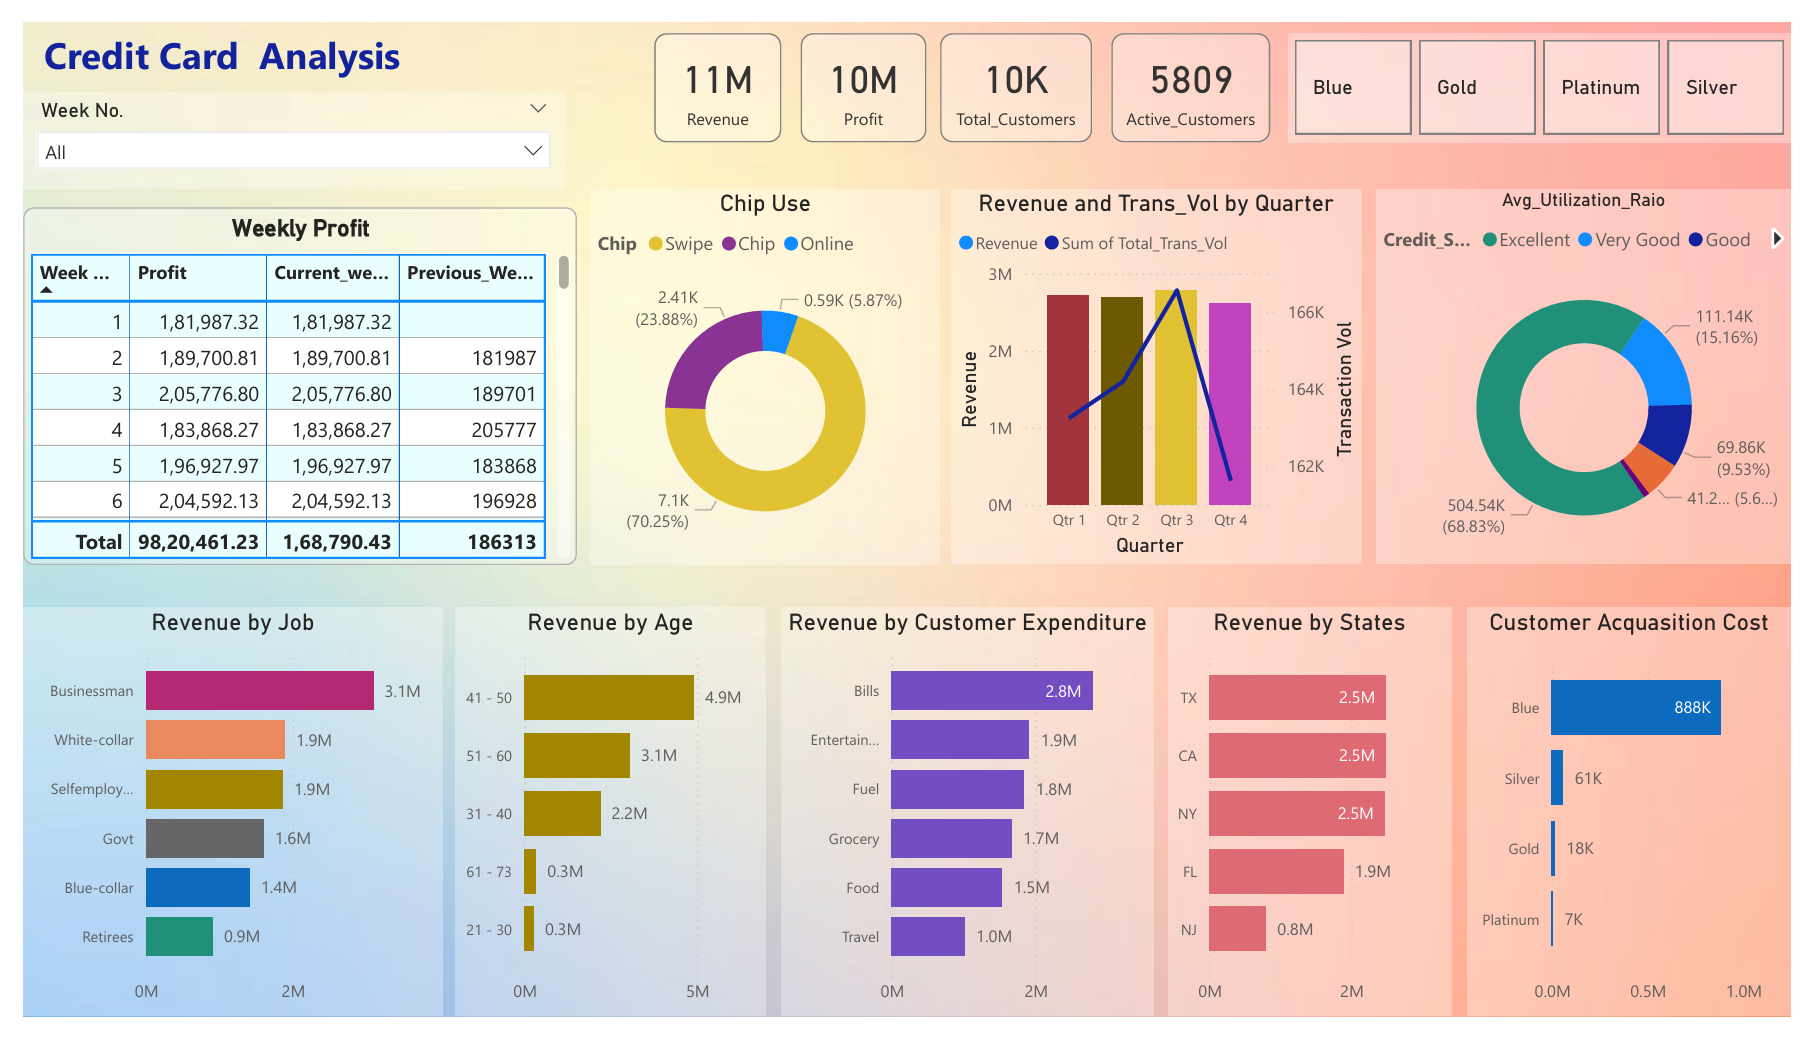

This screenshot's page, from the dashboard's own definition file:
{"tool":"powerbi","page":{"name":"Credit Card Analysis","canvas":[1280,720],"ordinal":0},"visuals":[{"type":"textbox","box":[10,0,391.2,51.2],"z":0},{"type":"card","fields":{"Values":["credit_card.Revenue"]},"box":[456.7,7.8,92.2,78.9],"z":1000},{"type":"card","fields":{"Values":["credit_card.Profit"]},"box":[563.3,7.8,91.1,78.9],"z":2000},{"type":"card","fields":{"Values":["CountNonNull(credit_card.Client_Num)"]},"box":[664.4,7.8,110,78.9],"z":3000},{"type":"clusteredBarChart","title":"Customer Acquasition Cost","fields":{"Category":["credit_card.Card_Category"],"Y":["Sum(credit_card.Customer_Acq_Cost)"]},"box":[1046.2,423.8,233.8,296.2],"z":4000},{"type":"card","fields":{"Values":["credit_card.Active_Customers"]},"box":[787.8,7.8,115.6,78.9],"z":5000},{"type":"slicer","title":"Week No.","fields":{"Values":["credit_card.Week_Num"]},"box":[0,51.1,392.2,70],"z":6000},{"type":"tableEx","title":"Weekly Profit","fields":{"Values":["credit_card.Week_Num","credit_card.Profit","credit_card.Current_week","credit_card.Previous_Week_Profit"]},"box":[0,134.3,401.4,258.6],"z":7000},{"type":"clusteredBarChart","title":"Revenue by Job","fields":{"Category":["customer.Customer_Job"],"Y":["credit_card.Revenue"]},"box":[0,423.8,303.8,296.2],"z":8000},{"type":"advancedSlicerVisual","fields":{"Values":["credit_card.Card_Category"]},"box":[915.6,7.8,364.4,78.9],"z":9000},{"type":"clusteredBarChart","title":"Revenue by Customer Expenditure","fields":{"Category":["credit_card.Exp Type"],"Y":["credit_card.Revenue"]},"box":[548.8,423.8,270,296.2],"z":10000},{"type":"clusteredBarChart","title":" Revenue by Age","fields":{"Category":["customer.Customer_Age (groups)"],"Y":["credit_card.Revenue"]},"box":[312.5,423.8,225,296.2],"z":11000},{"type":"pieChart","title":"Chip Use ","fields":{"Category":["credit_card.Use Chip"],"Y":["CountNonNull(credit_card.Use Chip)"]},"box":[411.4,121.4,252.9,271.4],"z":12000},{"type":"clusteredBarChart","title":"Revenue by States","fields":{"Y":["credit_card.Revenue"],"Category":["customer.state_cd"]},"box":[828.6,424.3,205.7,295.7],"z":13000},{"type":"lineClusteredColumnComboChart","title":"Revenue and Trans_Vol by Quarter","fields":{"Category":["credit_card.Week_Start_Date.Variation.Date Hierarchy.Quarter"],"Y":["credit_card.Revenue"],"Y2":["Sum(credit_card.Total_Trans_Vol)"]},"box":[672.3,120.8,296.5,271.1],"z":14000},{"type":"donutChart","title":"Avg_Utilization_Raio","fields":{"Y":["Sum(credit_card.Total_Paid_Pct)"],"Category":["credit_card.Credit_Score"]},"box":[979.5,120.8,300.6,271.1],"z":15000}]}

Visuals, with their boxes in screenshot pixels (x1, y1, x2, y2), scaled from the page's 1280x720 canvas onto the 1809x1038 screenshot:
textbox: <box>14,0,567,74</box>
card - credit_card.Revenue: <box>645,11,776,125</box>
card - credit_card.Profit: <box>796,11,925,125</box>
card - CountNonNull(credit_card.Client_Num): <box>939,11,1094,125</box>
"Customer Acquasition Cost" clusteredBarChart: <box>1479,611,1808,1037</box>
card - credit_card.Active_Customers: <box>1113,11,1277,125</box>
"Week No." slicer: <box>0,74,554,175</box>
"Weekly Profit" tableEx: <box>0,194,567,566</box>
"Revenue by Job" clusteredBarChart: <box>0,611,429,1037</box>
advancedSlicerVisual - credit_card.Card_Category: <box>1294,11,1808,125</box>
"Revenue by Customer Expenditure" clusteredBarChart: <box>776,611,1157,1037</box>
" Revenue by Age" clusteredBarChart: <box>442,611,760,1037</box>
"Chip Use " pieChart: <box>581,175,939,566</box>
"Revenue by States" clusteredBarChart: <box>1171,612,1462,1037</box>
"Revenue and Trans_Vol by Quarter" lineClusteredColumnComboChart: <box>950,174,1369,565</box>
"Avg_Utilization_Raio" donutChart: <box>1384,174,1808,565</box>
